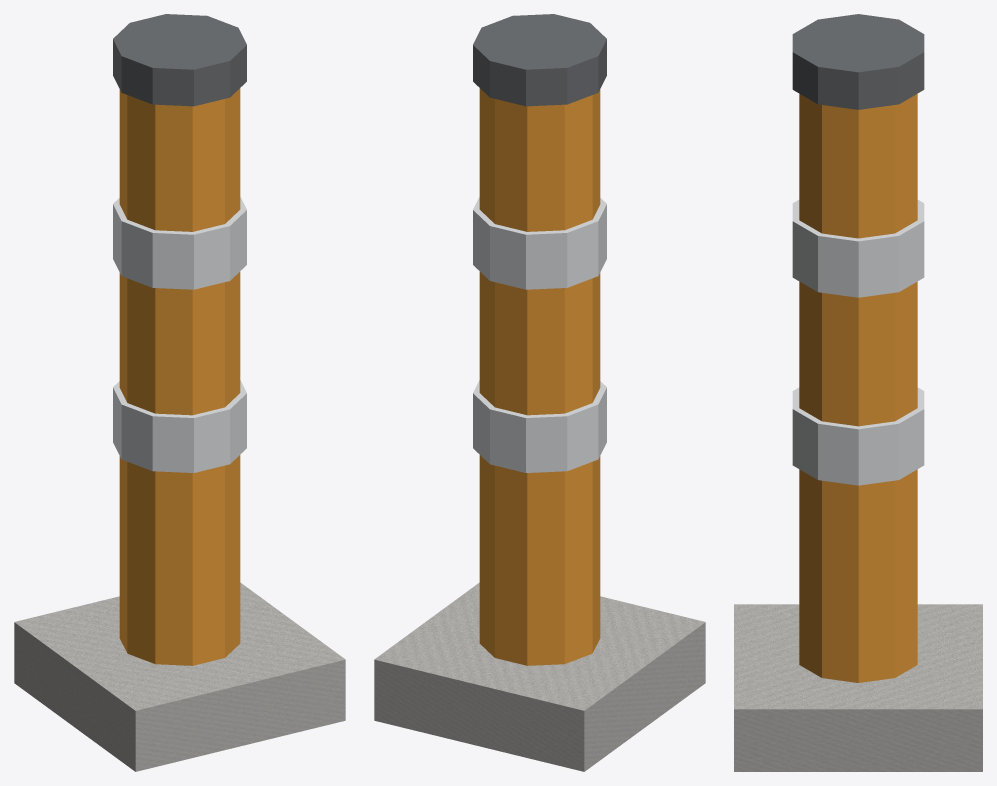
Rendered from recycling-and-waste-transfer-yard-recycling-and-waste--ddc92b27__34931.glb.
3 renders of one model, left to right at view 1: azimuth 30°, elevation 25°; view 2: azimuth 150°, elevation 25°; view 3: azimuth 270°, elevation 25°, orthographic. The views are drawn at different scales.
Visible parts, largest first — view 1: recycling-and-waste-transfer-yard-hi-vis-bollard; view 2: recycling-and-waste-transfer-yard-hi-vis-bollard; view 3: recycling-and-waste-transfer-yard-hi-vis-bollard.
Part boxes in pixels (x1,y1,x2,y2): recycling-and-waste-transfer-yard-hi-vis-bollard: (14, 14, 345, 771); recycling-and-waste-transfer-yard-hi-vis-bollard: (374, 14, 705, 771); recycling-and-waste-transfer-yard-hi-vis-bollard: (734, 14, 982, 771).
Bounding box in the file's own units: 0.36 × 1.08 × 0.36.
4 materials, 1 textured.
